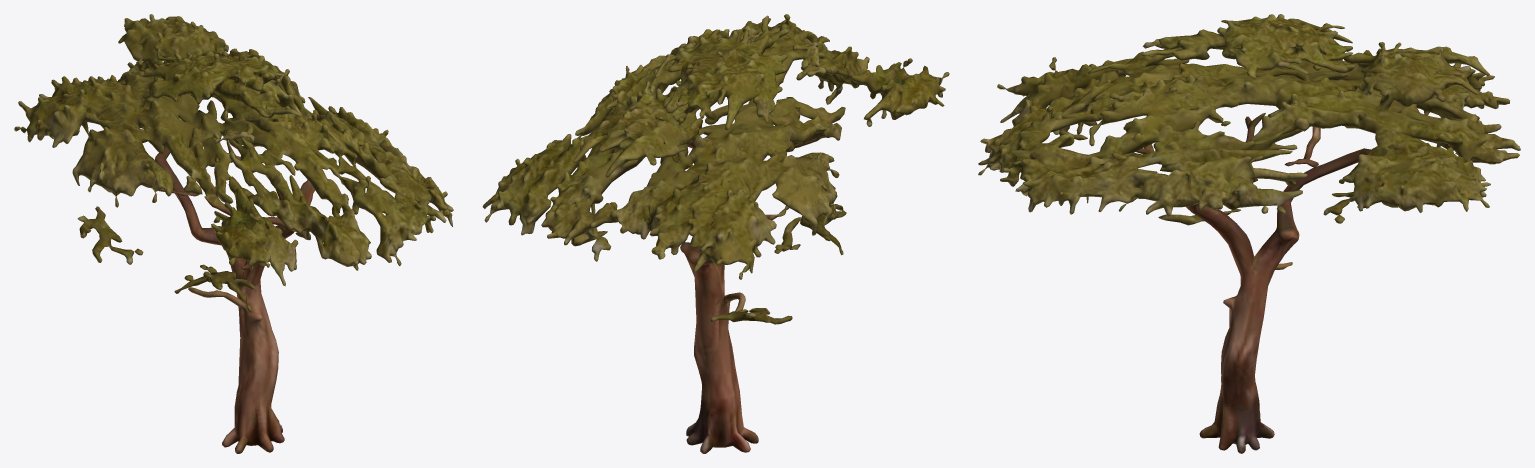
Rendered from tree_acacia.glb.
3 renders of one model, left to right at view 1: azimuth 30°, elevation 25°; view 2: azimuth 150°, elevation 25°; view 3: azimuth 270°, elevation 25°, orthographic. The views are drawn at different scales.
Parts seen in each view (by area): view 1: tripo_node_89995df1-90c9-45cc-947b-be7ad1dde552; view 2: tripo_node_89995df1-90c9-45cc-947b-be7ad1dde552; view 3: tripo_node_89995df1-90c9-45cc-947b-be7ad1dde552.
Part boxes in pixels (x1,y1,x2,y2): tripo_node_89995df1-90c9-45cc-947b-be7ad1dde552: (14,14,453,453); tripo_node_89995df1-90c9-45cc-947b-be7ad1dde552: (482,14,949,453); tripo_node_89995df1-90c9-45cc-947b-be7ad1dde552: (978,14,1520,453).
Bounding box in the file's own units: 0.5326 × 0.7576 × 0.9117.
1 material, 1 textured.
